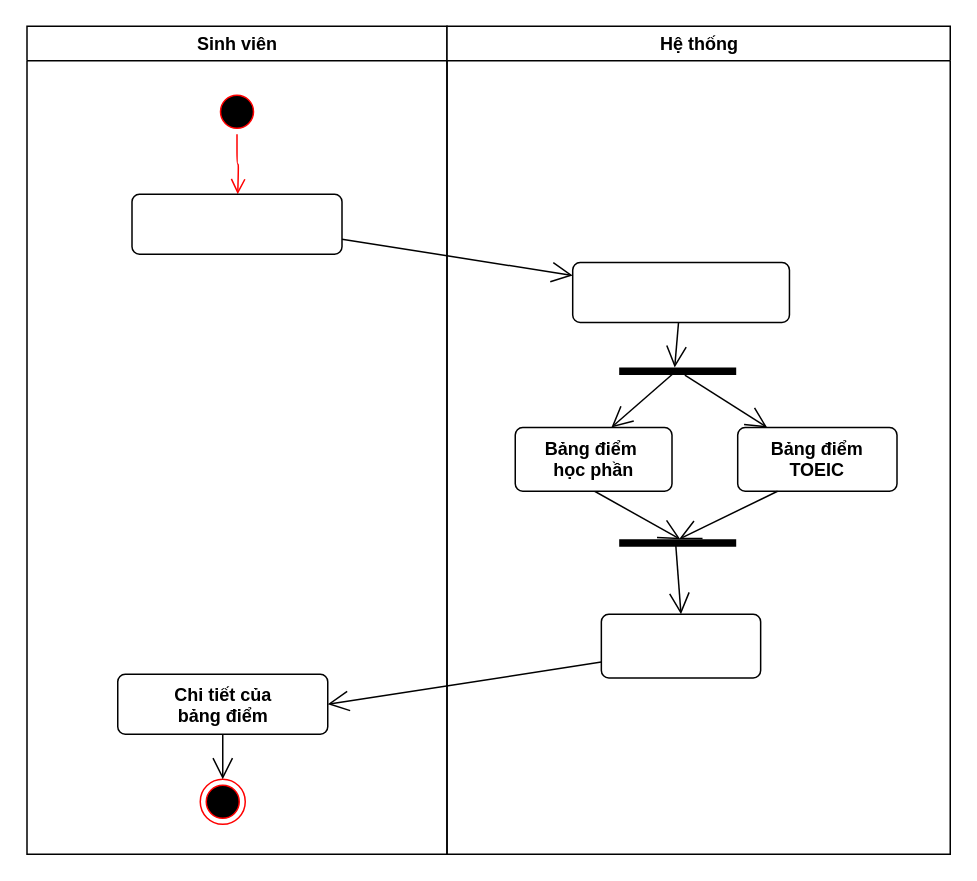
Image size: 977x881. Some labels were removed from this diagram. The shapes that lost their labels are listed below. From the top down, each one's centre as x and y in pixels, then its label:
At pixel 236 223: "Yêu cầu xem bảng điểm".
At pixel 680 291: "Tìm dữ liệu sinh viên trong cơ sở dữ liệu".
At pixel 680 645: "Dữ liệu điểm của sinh viên".
